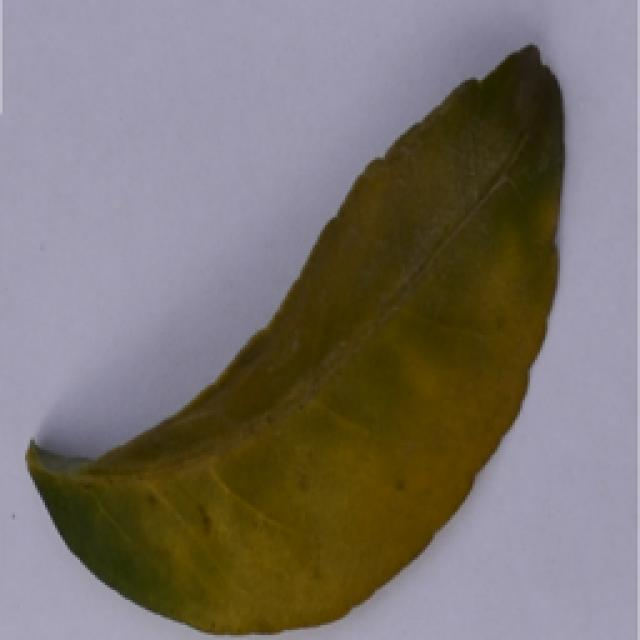greening: (24, 41, 574, 623)
